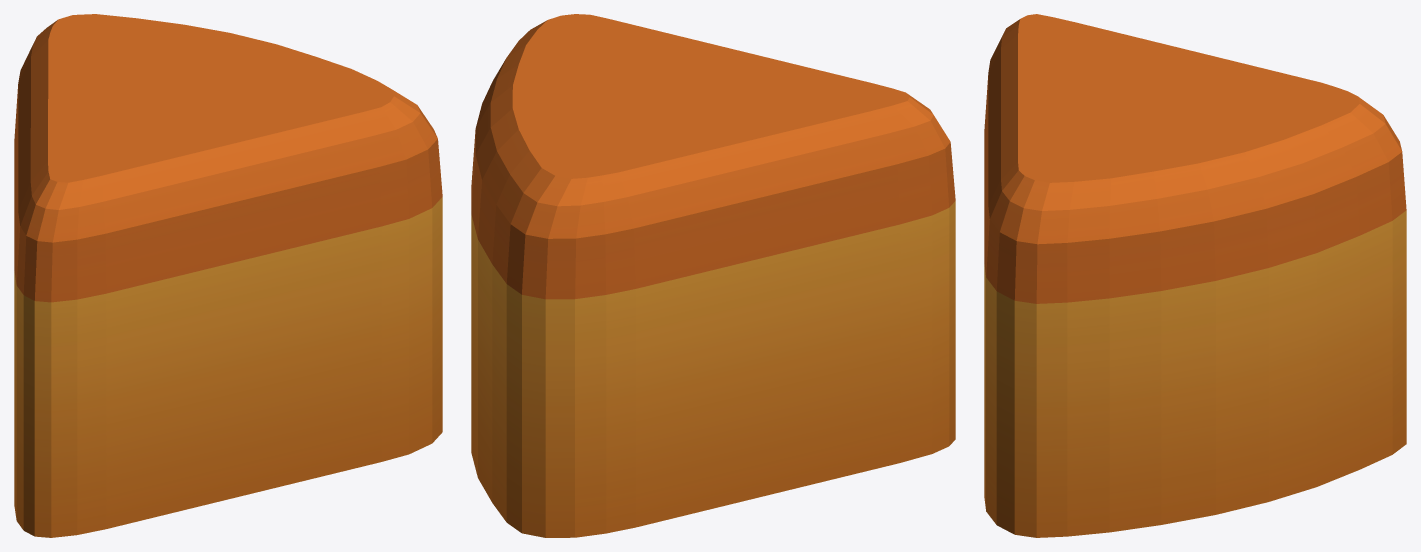
File: cake04_slice.FBX
The picture shows the model from 3 angles, left to right: view 1: azimuth 30°, elevation 25°; view 2: azimuth 150°, elevation 25°; view 3: azimuth 270°, elevation 25°; orthographic projection.
Parts seen in each view (by area): view 1: cake04_slice; view 2: cake04_slice; view 3: cake04_slice.
Boxes of the visible parts, <box> form: cake04_slice: <box>14,14,442,537</box>; cake04_slice: <box>471,14,955,537</box>; cake04_slice: <box>984,14,1406,537</box>.
Bounding box in the file's own units: 0.00904 × 0.00692 × 0.00788.
